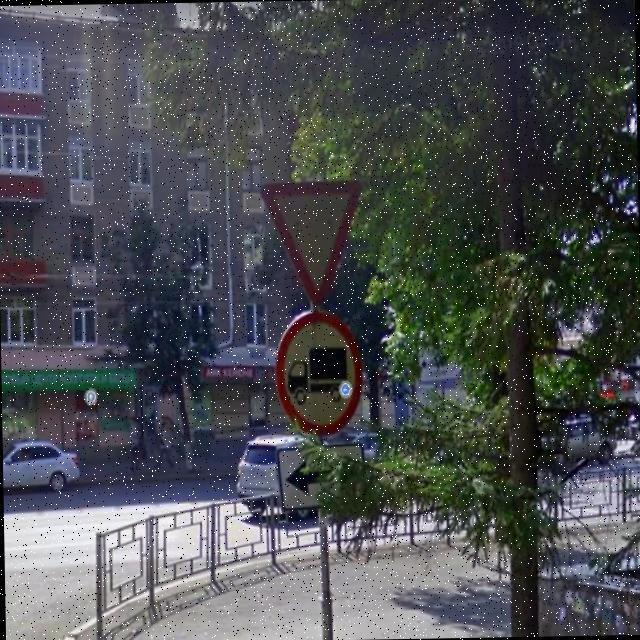Ustap pierwszenstwa: (258, 173, 372, 315)
